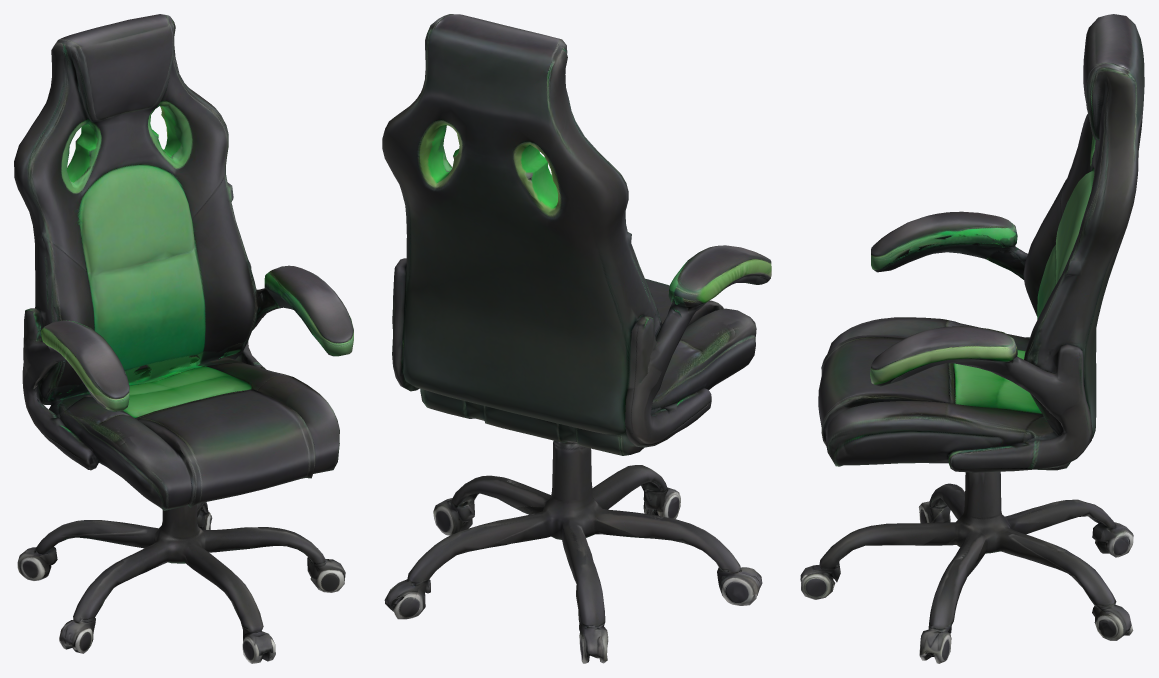
3 renders of one model, left to right at view 1: azimuth 30°, elevation 25°; view 2: azimuth 150°, elevation 25°; view 3: azimuth 270°, elevation 25°, orthographic. The views are drawn at different scales.
Visible parts, largest first — view 1: Mesh_0; view 2: Mesh_0; view 3: Mesh_0.
Part boxes in pixels (x1,y1,x2,y2): Mesh_0: (14,14,353,663); Mesh_0: (382,14,771,663); Mesh_0: (800,14,1144,663).
Bounding box in the file's own units: 0.6147 × 1.1 × 0.6158.
Materials: 1 (1 with a texture image).
